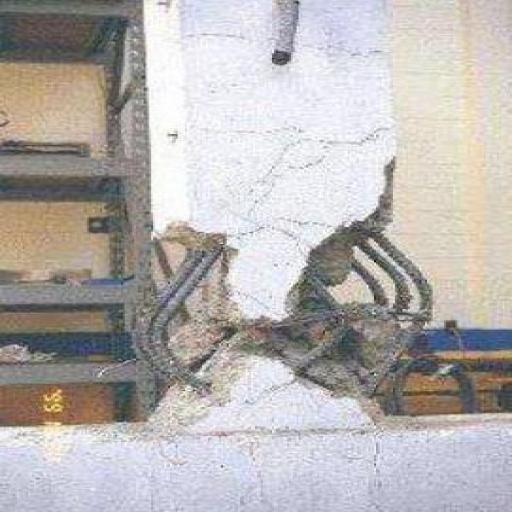spalling: (153, 174, 427, 431)
